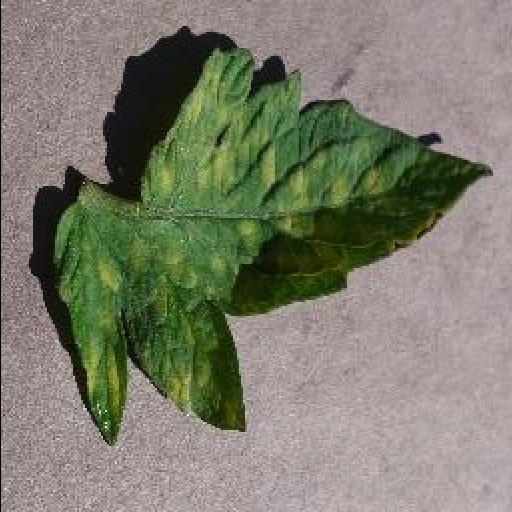disease_tomato: (53, 52, 495, 448)
